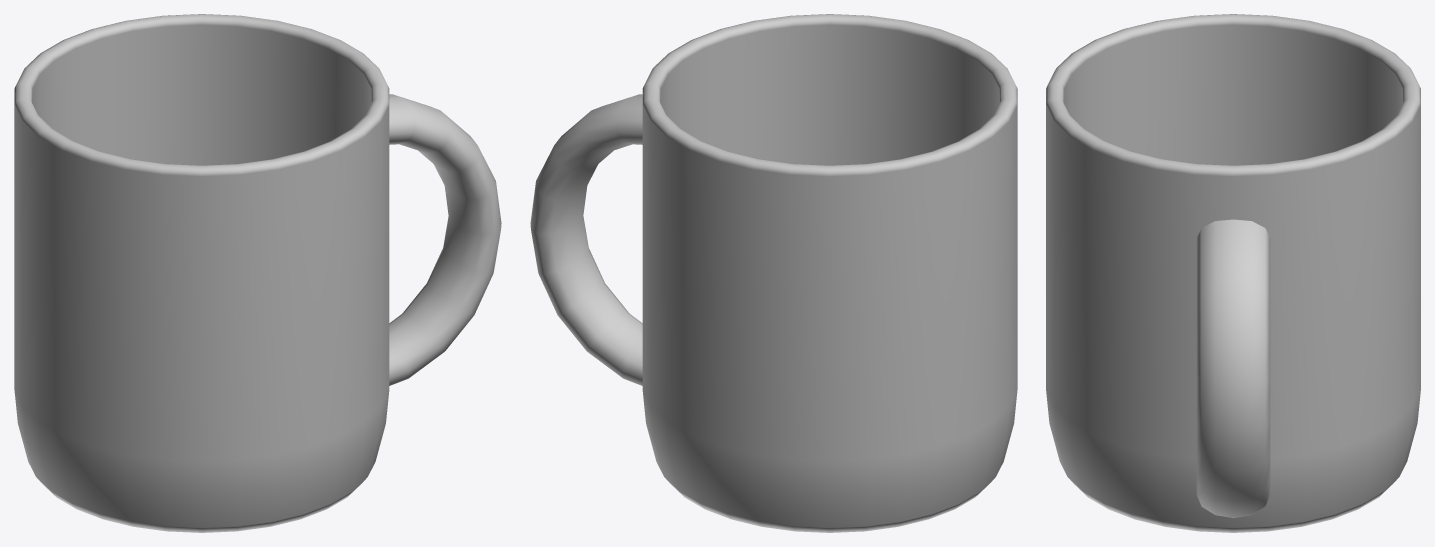
Rendered from mug_text.glb.
The picture shows the model from 3 angles, left to right: view 1: azimuth 30°, elevation 25°; view 2: azimuth 150°, elevation 25°; view 3: azimuth 270°, elevation 25°; orthographic projection.
Visible parts, largest first — view 1: pTorus2; view 2: pTorus2; view 3: pTorus2.
Part boxes in pixels (x1=…): pTorus2: x1=14, y1=14, x2=501, y2=532; pTorus2: x1=530, y1=14, x2=1017, y2=532; pTorus2: x1=1046, y1=14, x2=1420, y2=532.
Size of the model in its own units: 2 by 1.55 by 1.42.
Materials: 2 (1 with a texture image).
